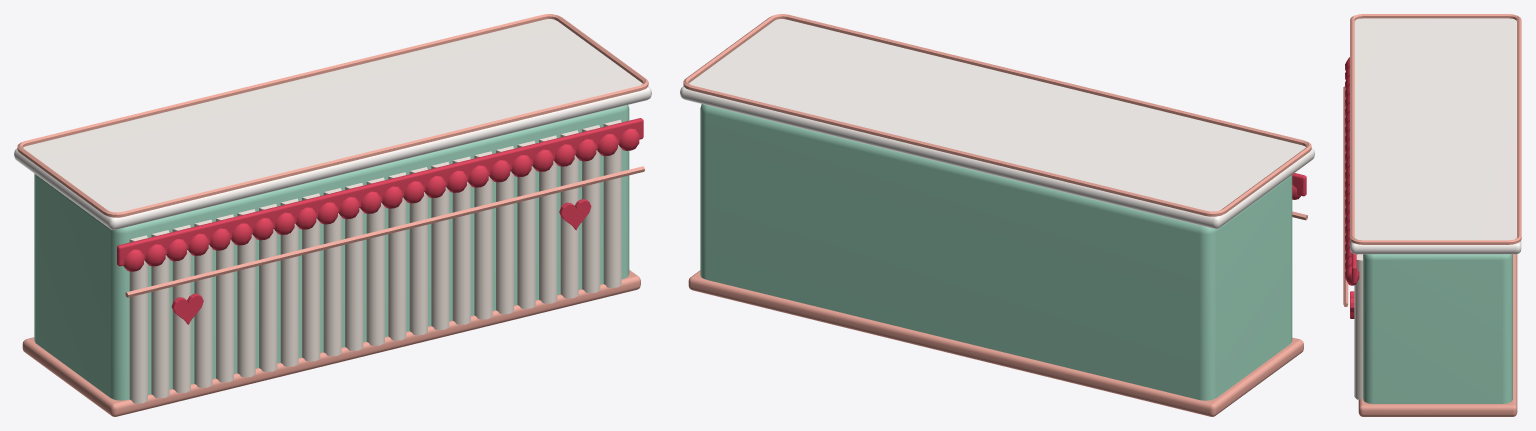
Rendered from counter_service.glb.
3 renders of one model, left to right at view 1: azimuth 30°, elevation 25°; view 2: azimuth 150°, elevation 25°; view 3: azimuth 270°, elevation 25°, orthographic. The views are drawn at different scales.
Parts seen in each view (by area): view 1: counter_service; view 2: counter_service; view 3: counter_service.
Boxes of the visible parts, x1,y1,x2,y2 form: counter_service: [14, 14, 651, 416]; counter_service: [680, 14, 1314, 416]; counter_service: [1343, 14, 1521, 416].
Size of the model in its own units: 2.52 by 0.937 by 0.8318.
